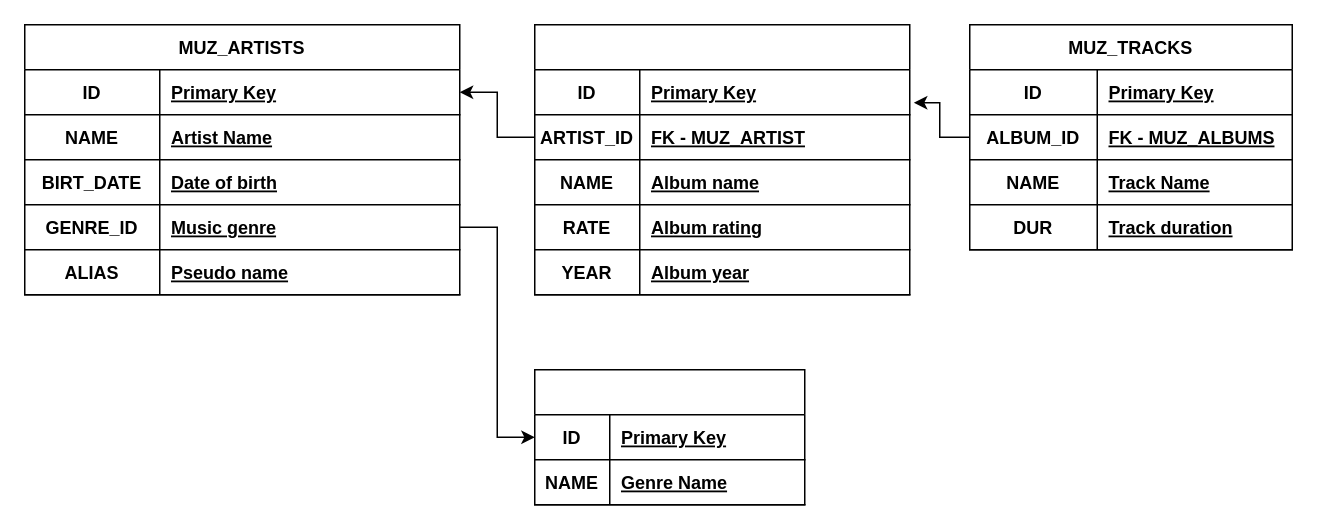
The diagram is 1317 pixels wide and 530 high, and some of its shapes have lost their labels. Each missing label, with the box of its shape:
MUZ_ALBUMS: (533, 23, 910, 295)
MUZ_GENRES: (533, 368, 805, 505)
